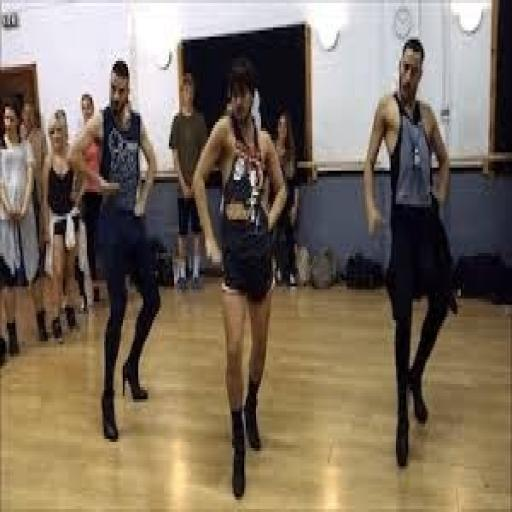dancing: (360, 34, 461, 472), (190, 64, 290, 503), (65, 55, 164, 445)
